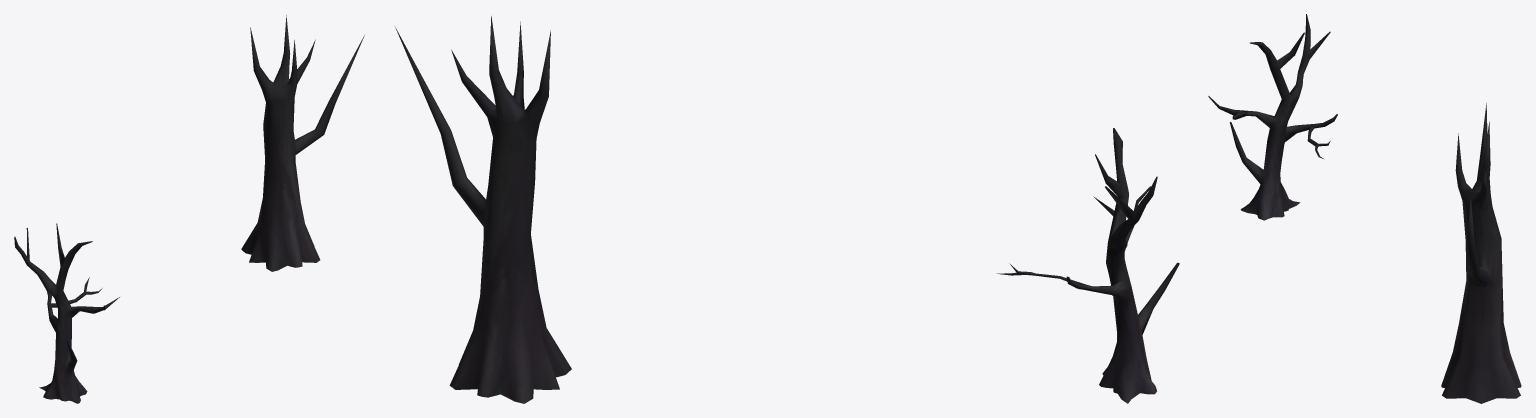
File: Area12_14.fbx
The picture shows the model from 3 angles, left to right: view 1: azimuth 30°, elevation 25°; view 2: azimuth 150°, elevation 25°; view 3: azimuth 270°, elevation 25°; orthographic projection. The views are drawn at different scales.
Parts seen in each view (by area): view 1: Area12_14; view 2: Area12_14; view 3: Area12_14.
Part boxes in pixels (x1,y1,x2,y2): Area12_14: [14, 15, 364, 403]; Area12_14: [395, 16, 1179, 403]; Area12_14: [1208, 14, 1521, 403].
Size of the model in its own units: 2954 by 1574 by 1656.
